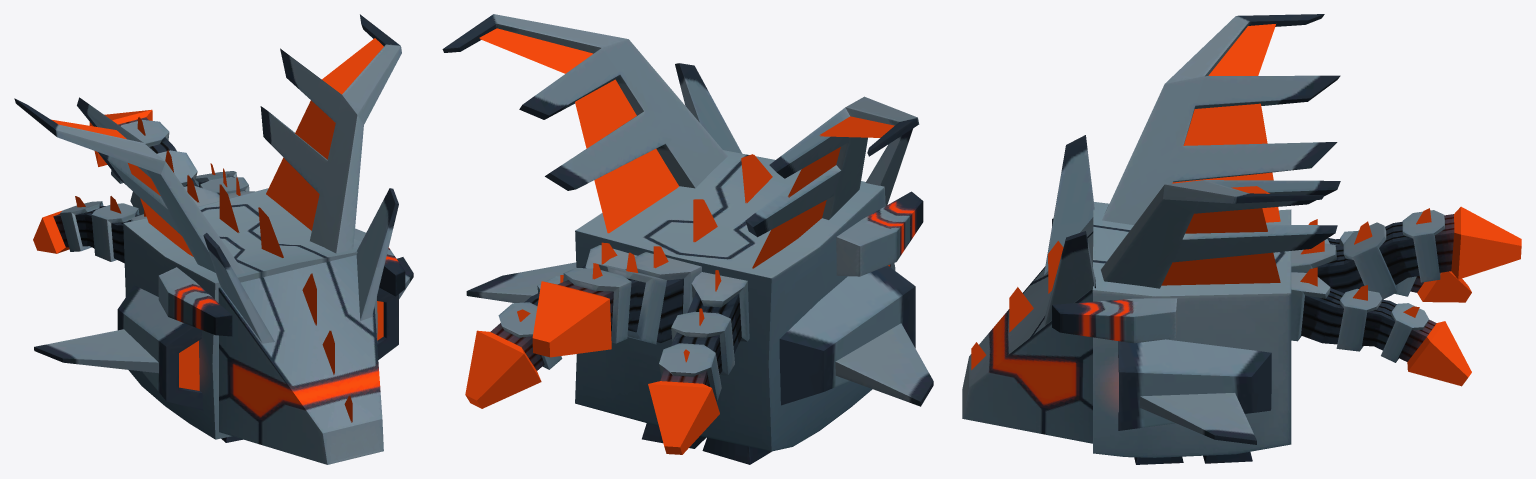
Rendered from pets_284.fbx.
3 views of the same model, side by side, from view 1: azimuth 30°, elevation 25°; view 2: azimuth 150°, elevation 25°; view 3: azimuth 270°, elevation 25° (orthographic). The views are drawn at different scales.
Visible parts, largest first — view 1: Pets.284; view 2: Pets.284; view 3: Pets.284.
Boxes of the visible parts, x1,y1,x2,y2 form: Pets.284: (14, 14, 413, 464); Pets.284: (442, 14, 933, 464); Pets.284: (962, 14, 1521, 464).
Bounding box in the file's own units: 0.8447 × 1.03 × 0.6784.
